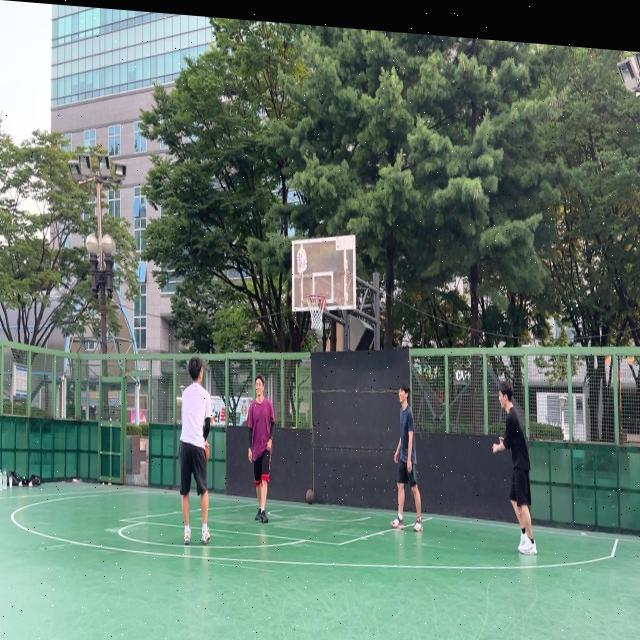basketball: (305, 488, 315, 505), (204, 443, 210, 461)
hoop: (307, 294, 326, 332)
